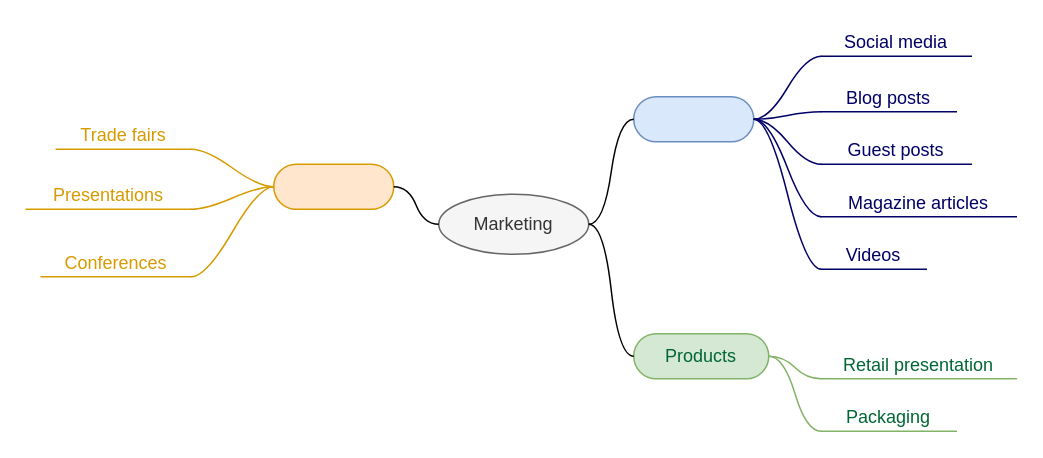
The diagram is 1043 pixels wide and 458 high, and some of its shapes have lost their labels. Each missing label, with the centre of its shape:
Content: pixel 693 118
Events: pixel 333 186
